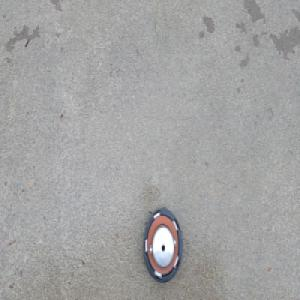FuelCap: (141, 206, 183, 283)
